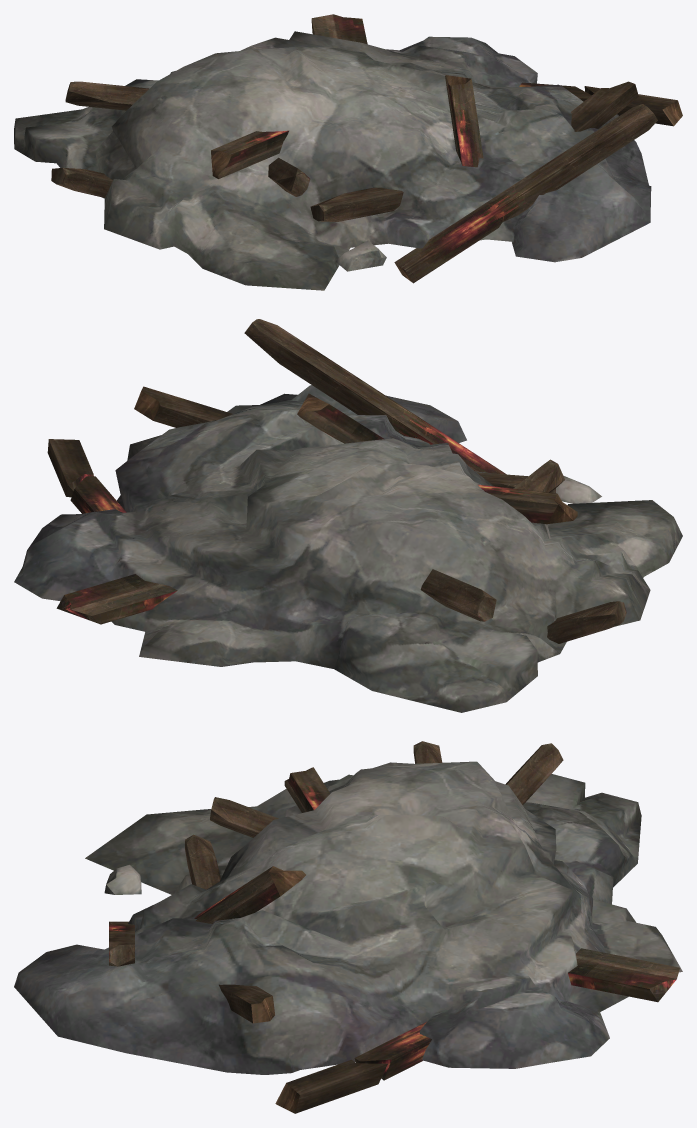
Rendered from q01c_thing_04.FBX.
3 renders of one model, top to bottom at view 1: azimuth 30°, elevation 25°; view 2: azimuth 150°, elevation 25°; view 3: azimuth 270°, elevation 25°, orthographic. The views are drawn at different scales.
Visible parts, largest first — view 1: q01c_thing_04; view 2: q01c_thing_04; view 3: q01c_thing_04.
Part boxes in pixels (left/top/right/bottom): q01c_thing_04: left=14, top=14, right=682, bottom=290; q01c_thing_04: left=14, top=319, right=682, bottom=712; q01c_thing_04: left=14, top=741, right=682, bottom=1113.
Bounding box in the file's own units: 251 × 56.2 × 219.
